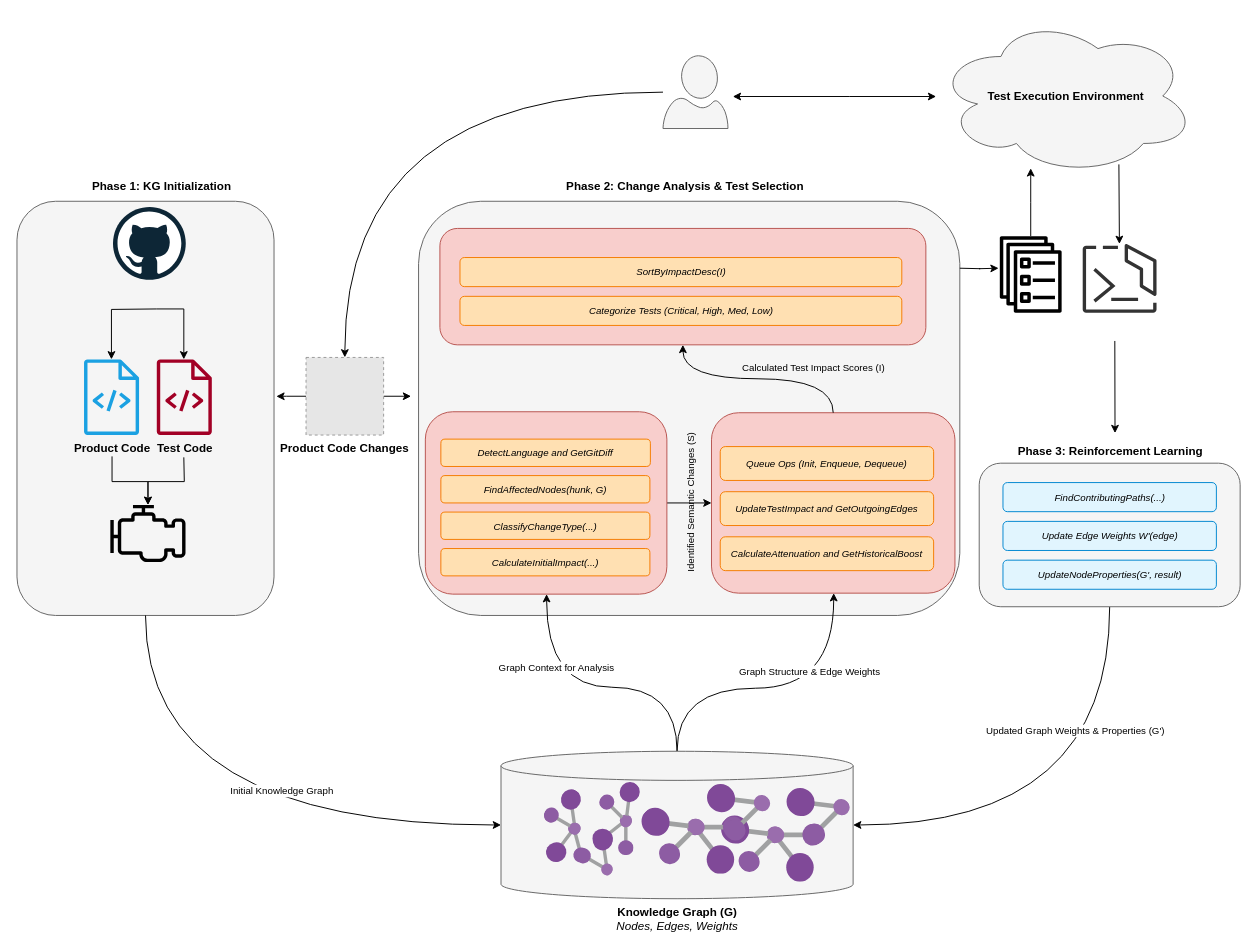
Image size: 1257x951. Some labels were removed from this diagram. Grey dashed boxes stand in for pictures. Each missing label, with the box of its shape:
Developer: (662, 55, 728, 129)
Impact Propagation: (711, 412, 955, 593)
ParseCodeElements(file) CreateNode, CreateEdge, InitWeight: (110, 504, 185, 562)
Prioritized Testcases: (999, 235, 1062, 313)
Semantic Change Analysis: (424, 411, 667, 594)
Source Code Repository: (112, 206, 186, 280)
Test Prioritization & Selection: (439, 227, 926, 345)
Test Results: (1081, 243, 1157, 313)
